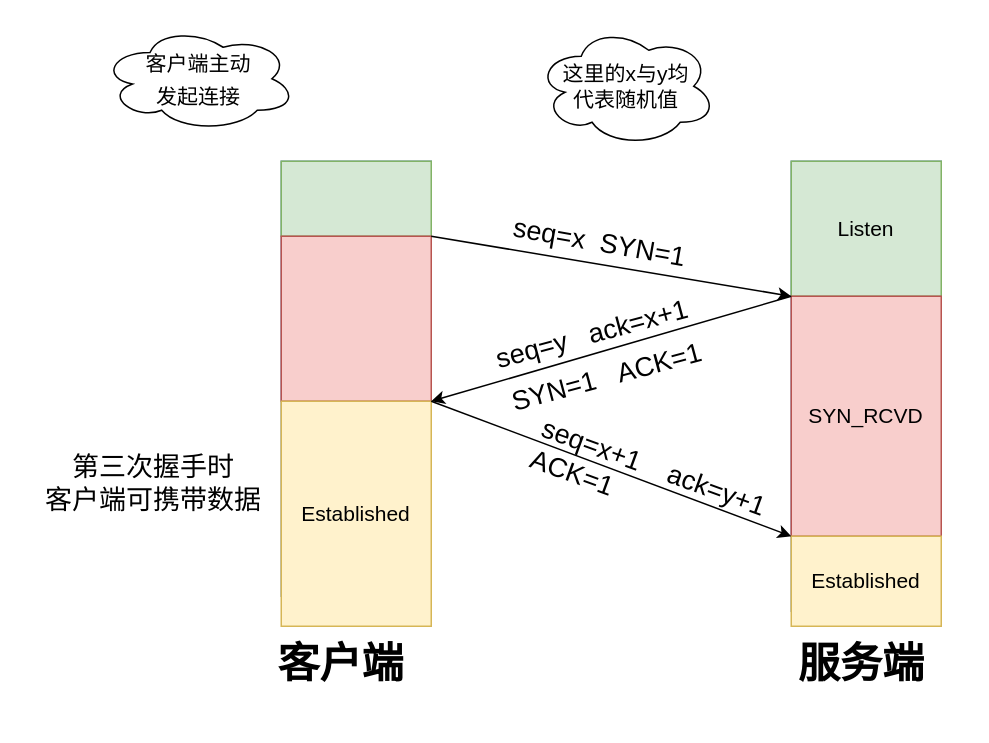
Some shapes in this 989 by 743 pixel diagram are drawn without their labels. The shapes that lost their labels are listed below. From the top down, each one's centre as x and y in pixels, then its label:
(x=355, y=198): closed
(x=355, y=318): SYN_SEND
